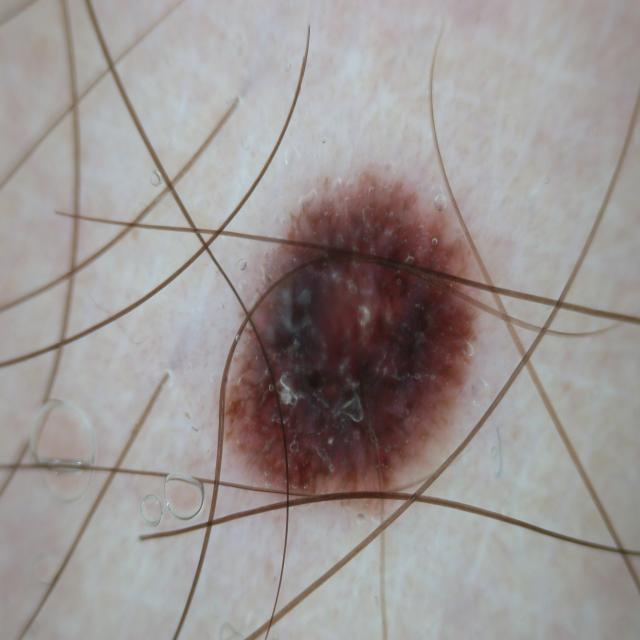Benign: (217, 167, 485, 513)
